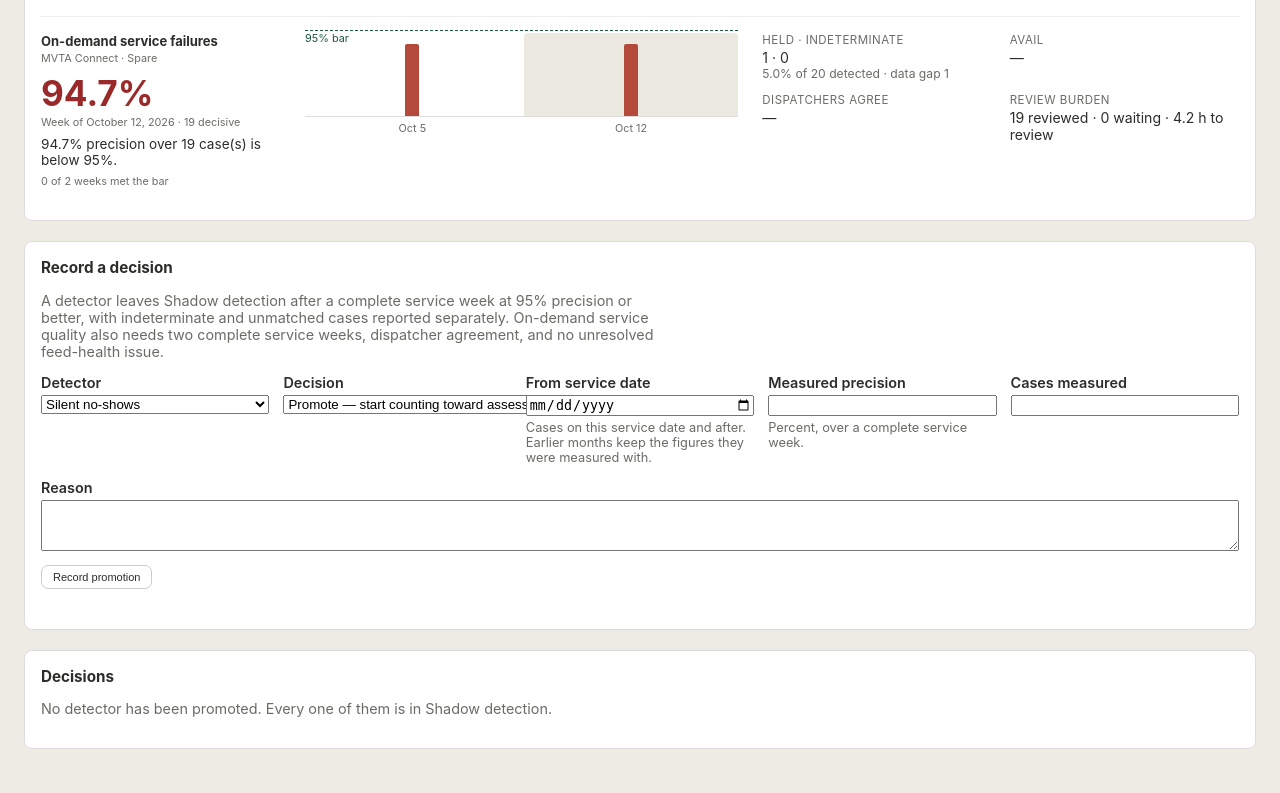
Test: Missed-trip detector promotion › records a promotion with its date and its measurement
(page scrolled)
Type "2026-10-01" into the date field labelled "From service date" at coordinates (640, 406), box x1=526 y1=395 x2=754 y2=416
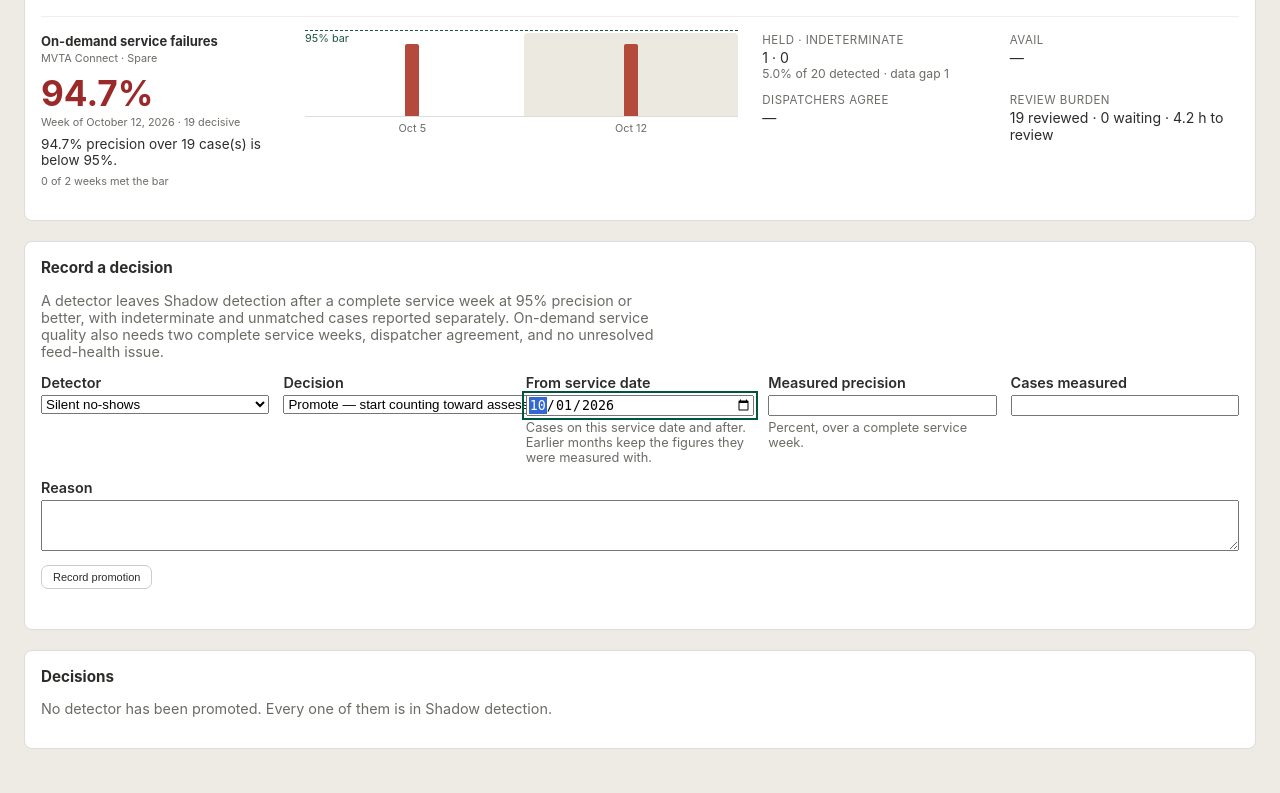
Type "97.2" into the number field labelled "Measured precision" at coordinates (882, 405), box x1=768 y1=395 x2=997 y2=416
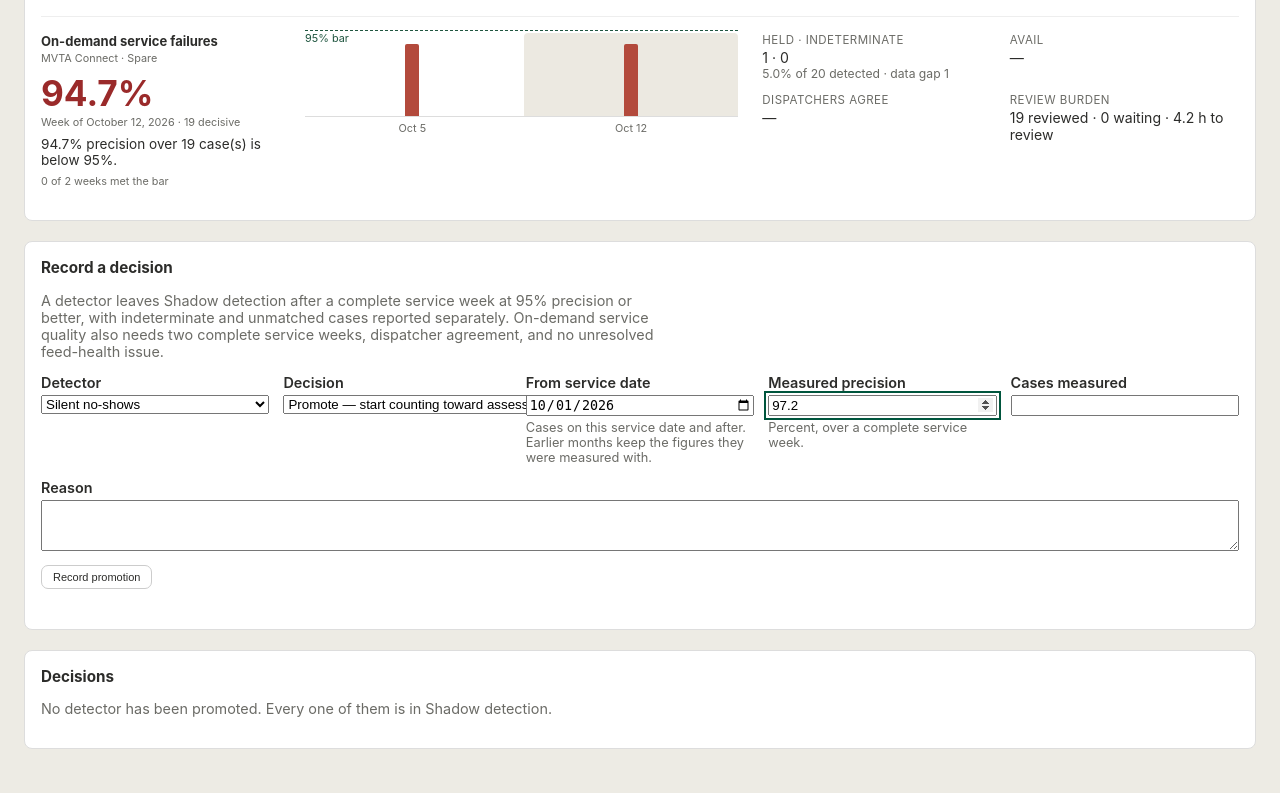
Type "143" into the number field labelled "Cases measured" at coordinates (1125, 405), box x1=1011 y1=395 x2=1239 y2=416
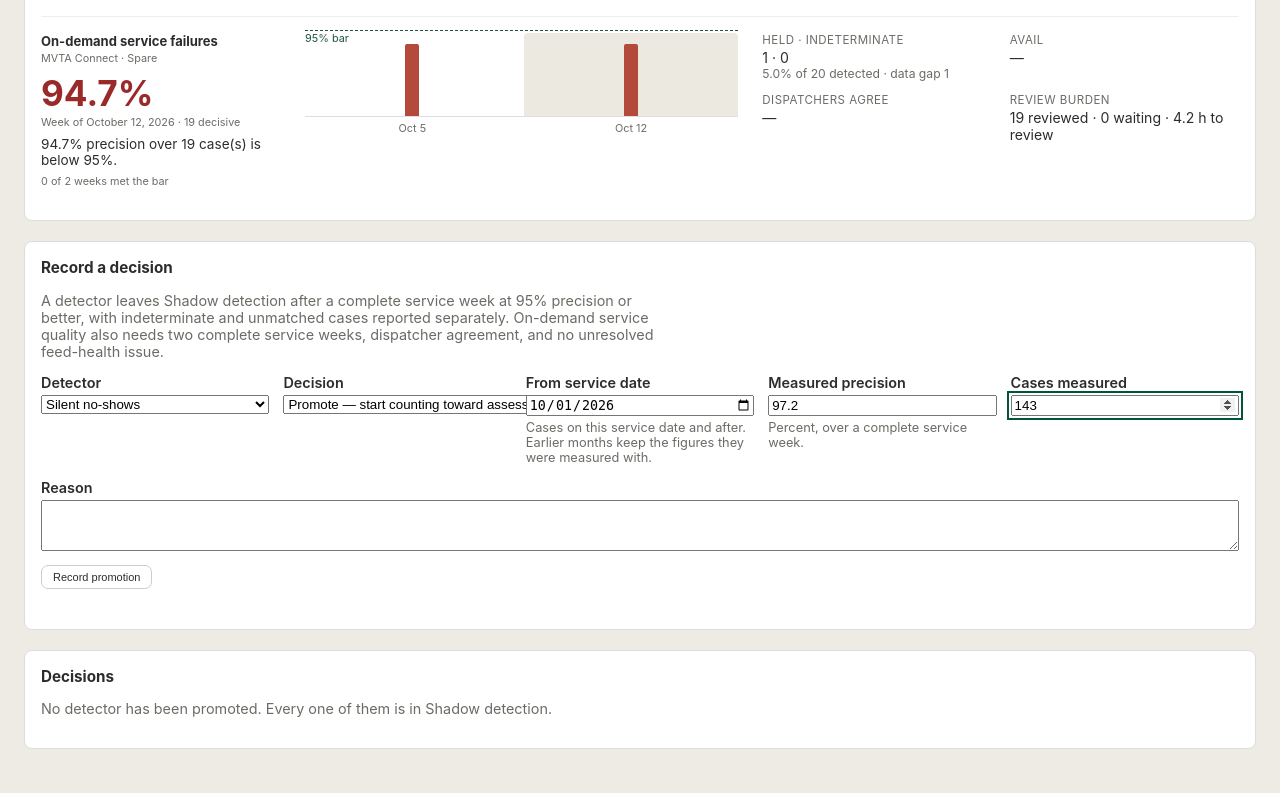
Type "97.2% over the week of 21 September" into the text box labelled "Reason" at coordinates (640, 526), box x1=41 y1=500 x2=1239 y2=551
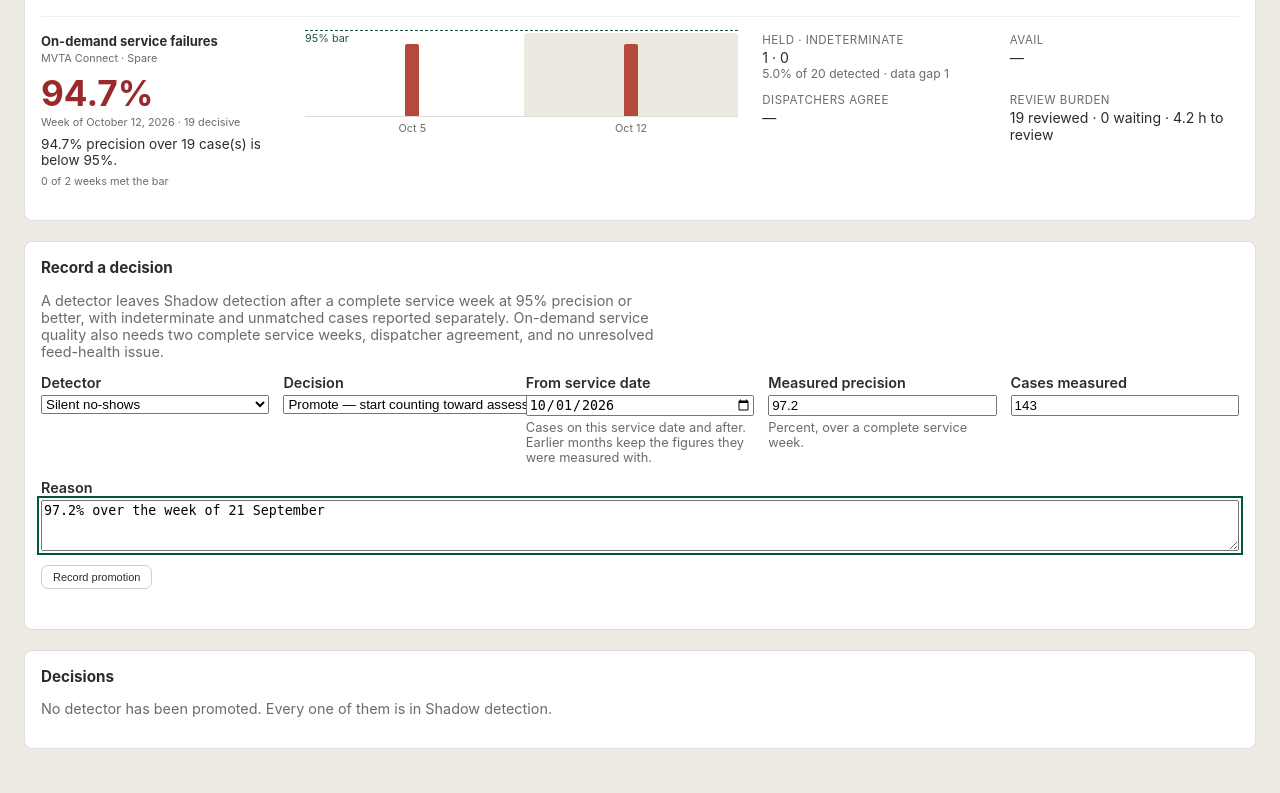
Click the button "Record promotion" at coordinates (97, 577), box x1=41 y1=565 x2=152 y2=589
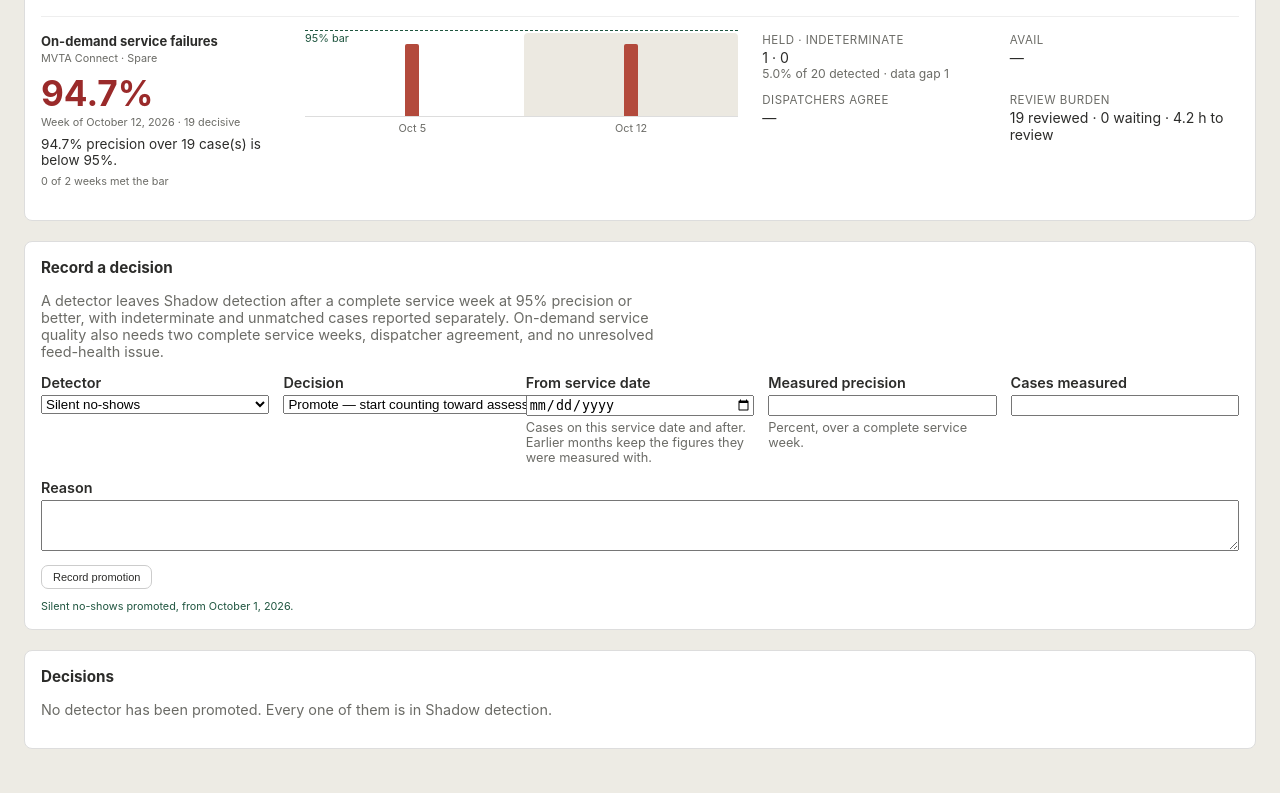
Expected: the text "Silent no-shows promoted, from October 1, 2026." is shown, x1=41 y1=600 x2=293 y2=613
